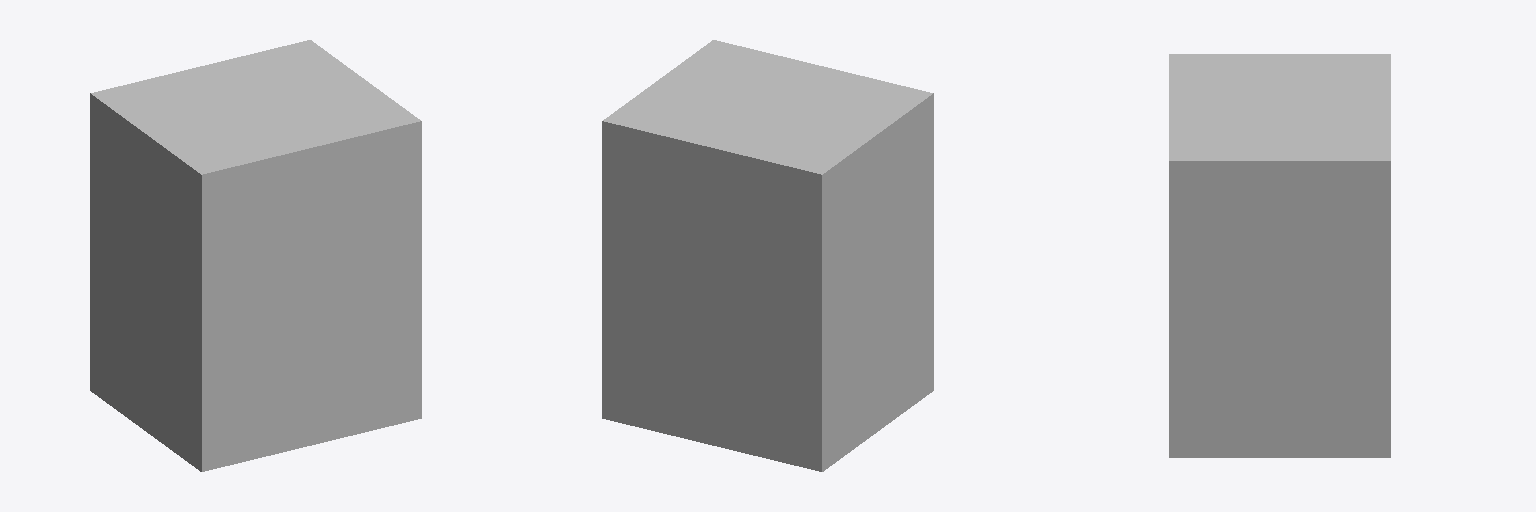
The model's file is GoblinDeFaca-4-Screenshot_1 (1).obj.
3 views of the same model, side by side, from view 1: azimuth 30°, elevation 25°; view 2: azimuth 150°, elevation 25°; view 3: azimuth 270°, elevation 25° (orthographic).
Parts seen in each view (by area): view 1: Screenshot_1 (1); view 2: Screenshot_1 (1); view 3: Screenshot_1 (1).
Boxes of the visible parts, box(x1,y1,x2,y2) form: Screenshot_1 (1): box(90, 40, 421, 471); Screenshot_1 (1): box(602, 40, 933, 471); Screenshot_1 (1): box(1169, 54, 1390, 457).
Size of the model in its own units: 2.4 by 3.1 by 2.1.